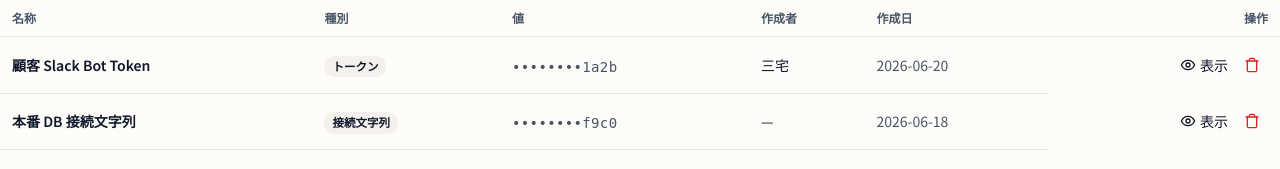
S-B04 CredentialList (T-UC-41) › cancel aborts the delete confirmation
Step 1. Click the button named "顧客 Slack Bot Token を削除" → (1252, 65), box [1236,53,1268,77]
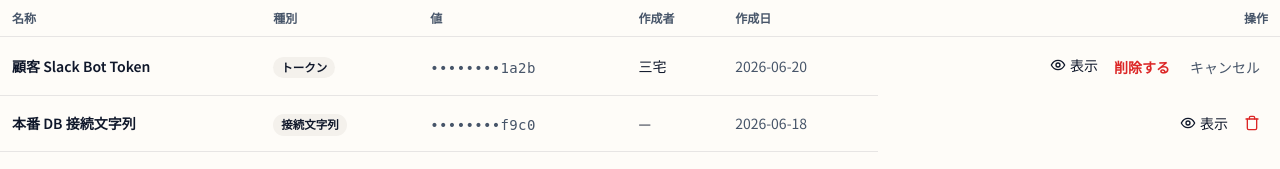
Step 2. Click the button "キャンセル" → (1225, 67), box [1182,53,1268,81]
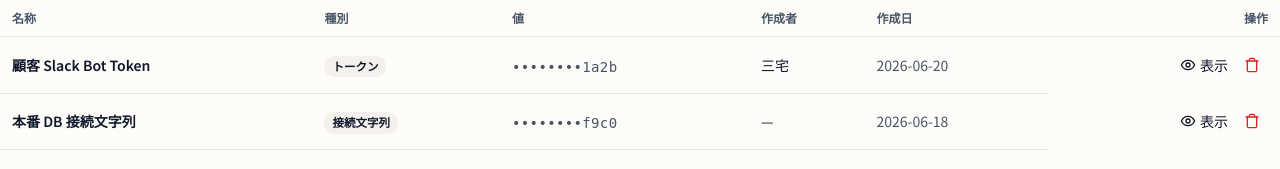
Now the button named "顧客 Slack Bot Token を削除" is shown, box [1236,53,1268,77]
